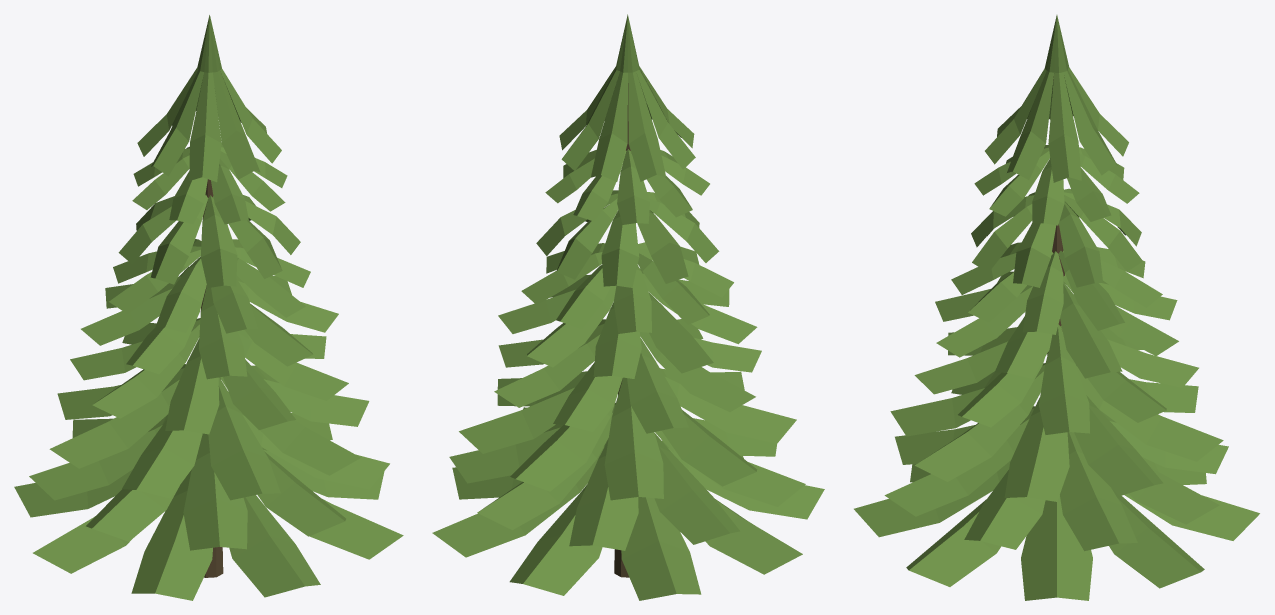
Rendered from tree1 1.fbx.
3 renders of one model, left to right at view 1: azimuth 30°, elevation 25°; view 2: azimuth 150°, elevation 25°; view 3: azimuth 270°, elevation 25°, orthographic.
Parts seen in each view (by area): view 1: Fir_Tree:Mesh; view 2: Fir_Tree:Mesh; view 3: Fir_Tree:Mesh.
Part boxes in pixels (box(x1,y1,x2,y2)): Fir_Tree:Mesh: box(14, 15, 403, 600); Fir_Tree:Mesh: box(432, 14, 824, 600); Fir_Tree:Mesh: box(854, 15, 1259, 600).
Bounding box in the file's own units: 27.65 × 41.89 × 27.64.
